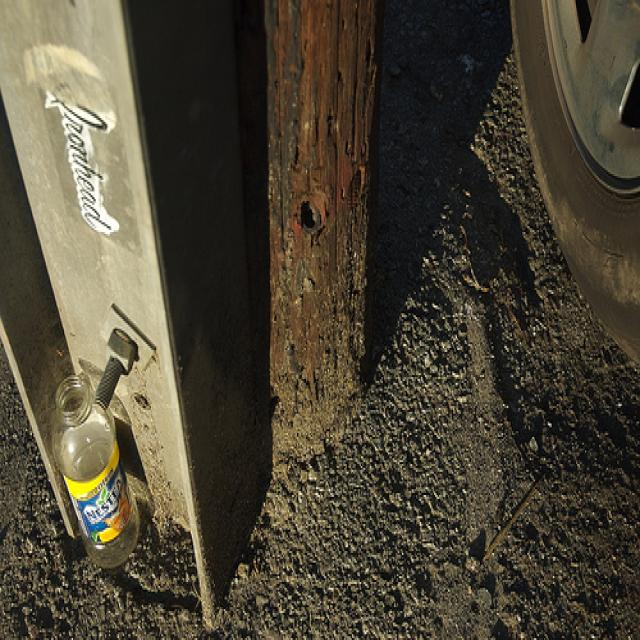bottle: (50, 374, 142, 570)
